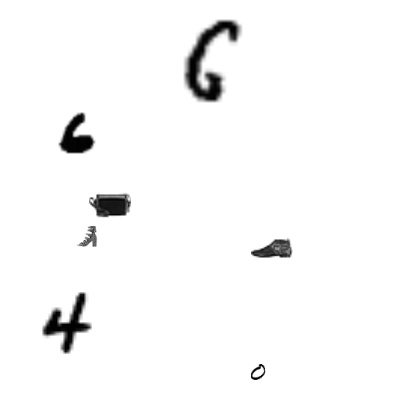0: (247, 361, 269, 383)
4: (25, 281, 109, 365)
6: (149, 5, 261, 117), (47, 109, 103, 165)
Ankle_boot: (251, 226, 293, 268)
Bag: (89, 184, 131, 226)
Sandal: (76, 225, 98, 247)
